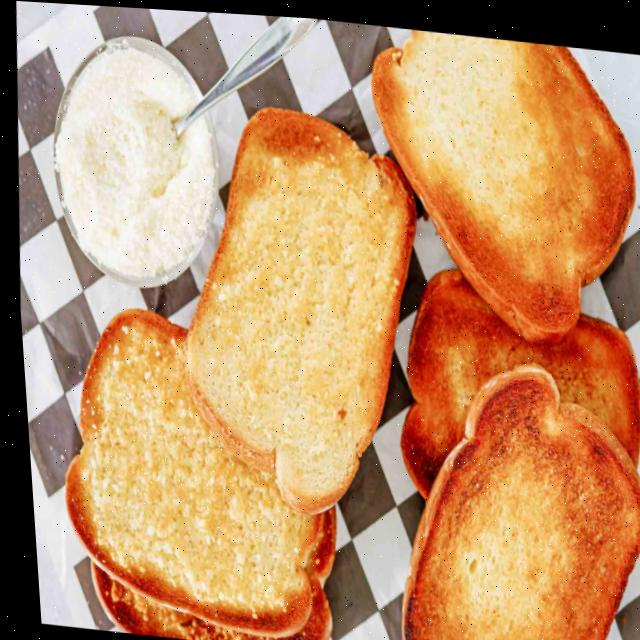Bread: (180, 103, 413, 510), (59, 306, 316, 633), (372, 24, 632, 333), (394, 361, 638, 640), (396, 264, 636, 492)
